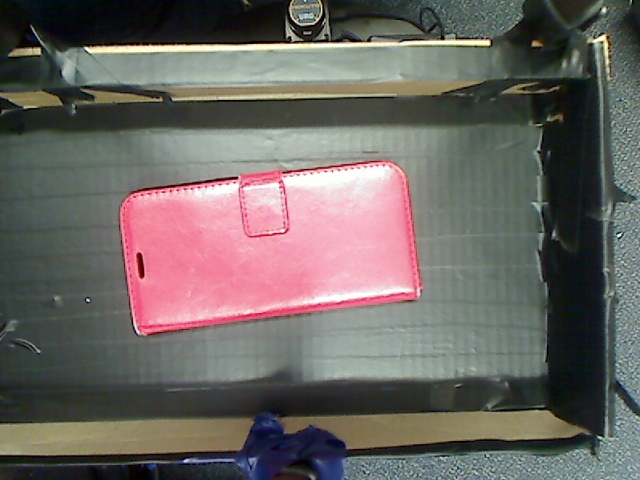phone: (94, 177, 448, 319)
